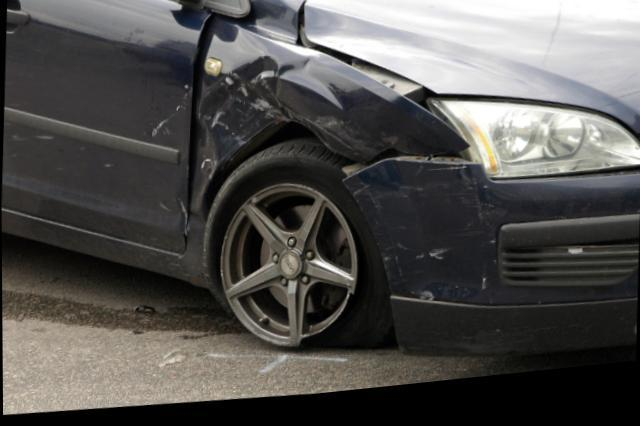dent: (197, 60, 347, 194)
scratch: (353, 185, 496, 270)
tire flat: (205, 144, 394, 355)
